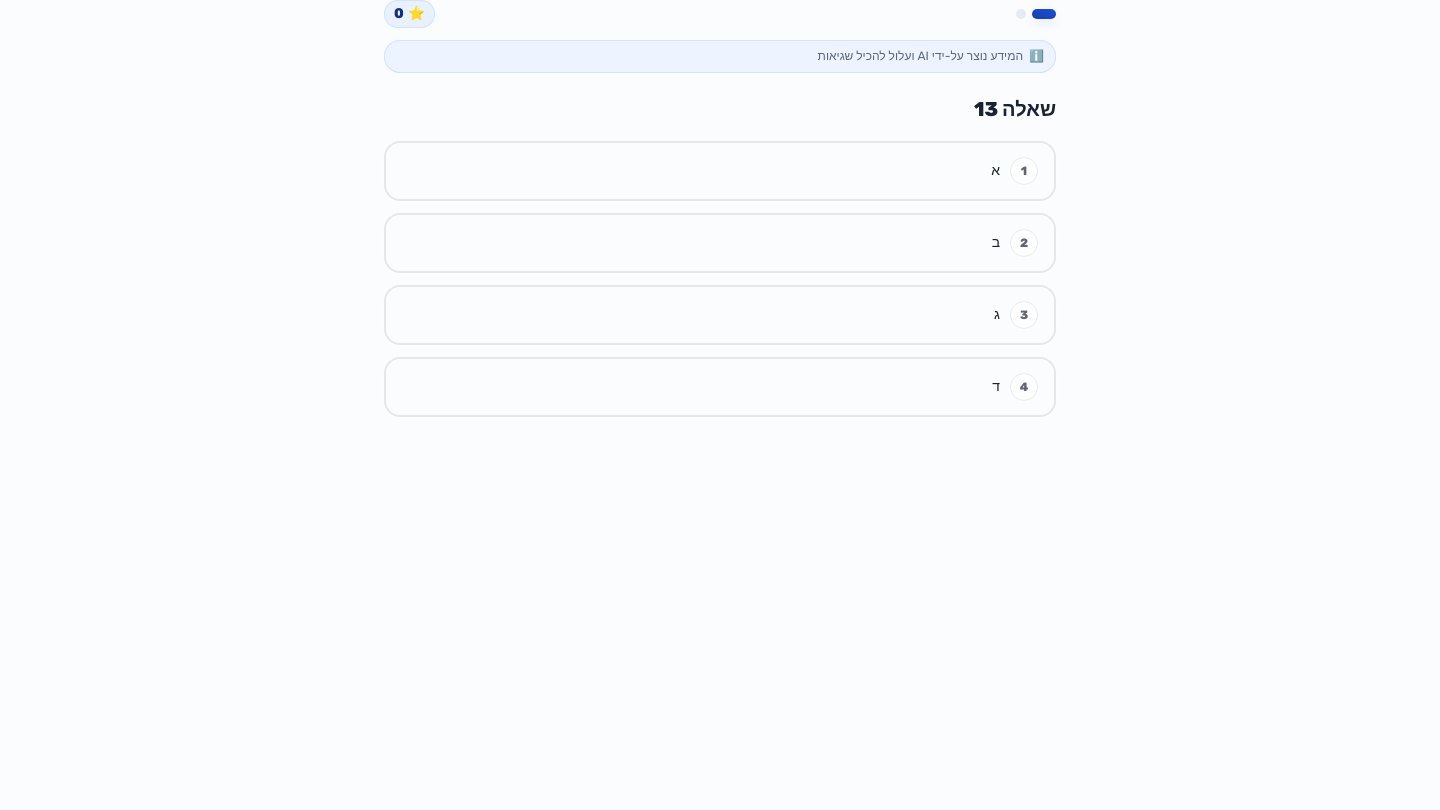
Test: LessonPlayer › סיום כל השאלות → מסך-סיכום עם ניקוד-כולל ו-correct/total
The image size is (1440, 810).
Click the radio button with test id "mcq-option-0" at (720, 171), box [384, 141, 1056, 201]
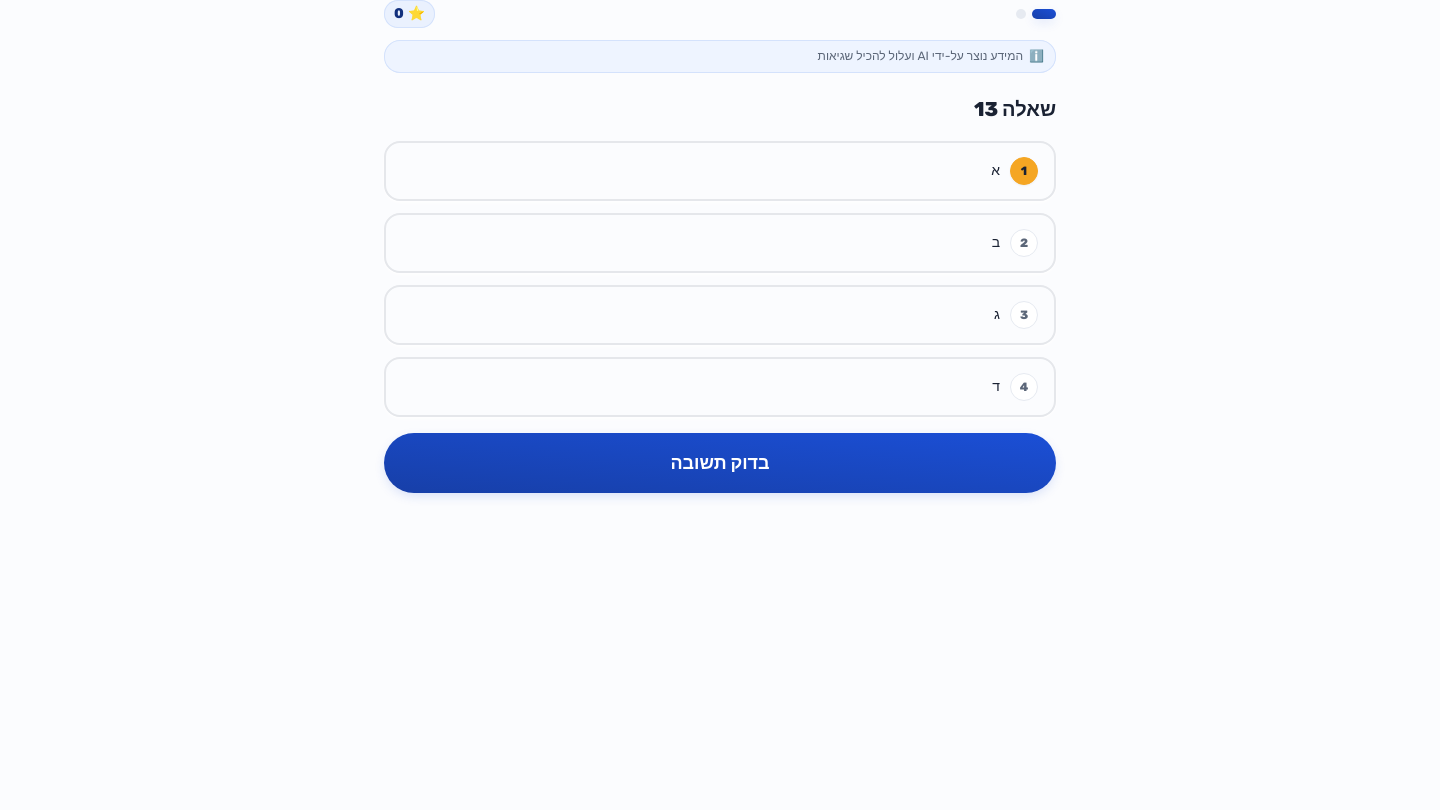
Click the button with test id "check-answer-button" at (720, 463), box [384, 433, 1056, 493]
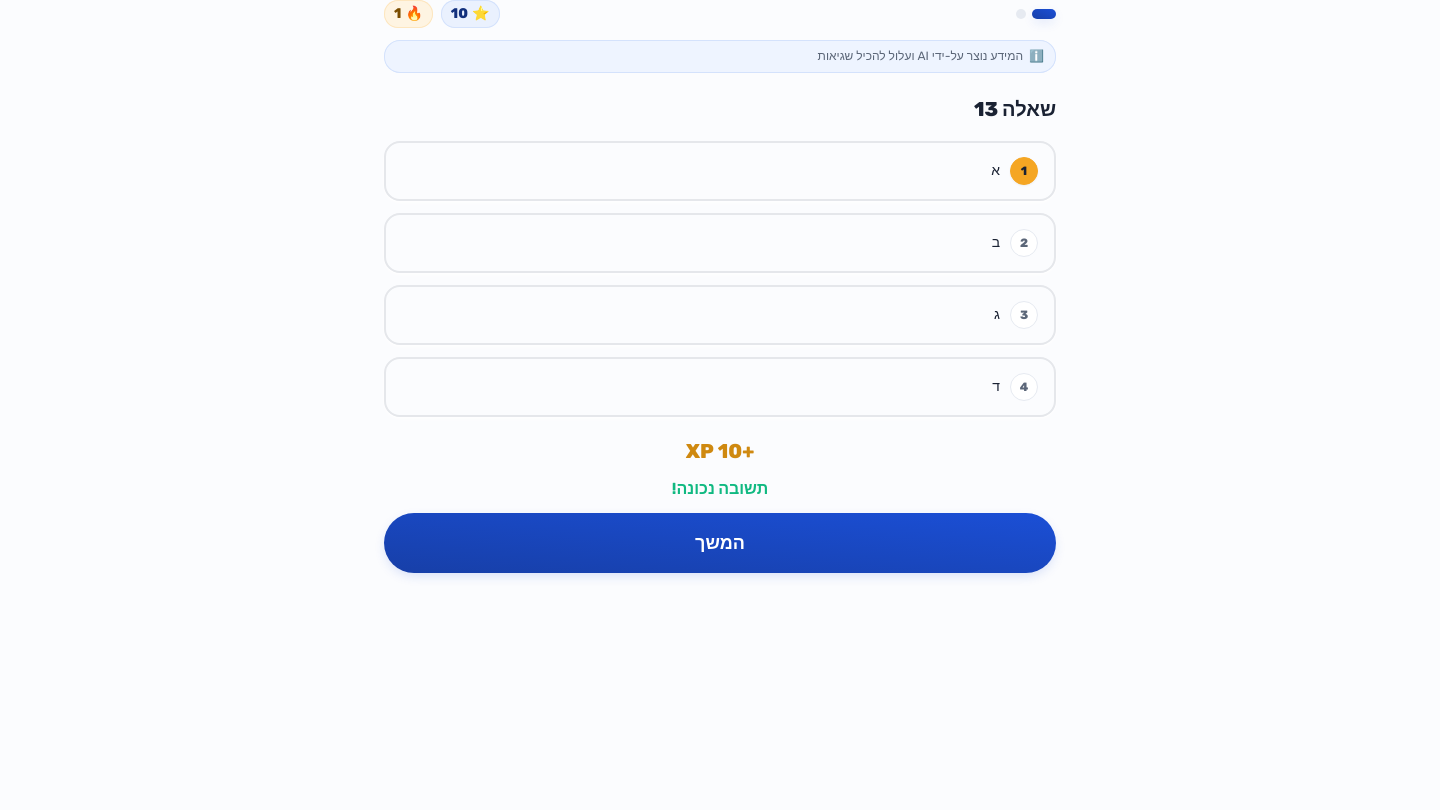
Click the button with test id "continue-button" at (720, 543), box [384, 513, 1056, 573]
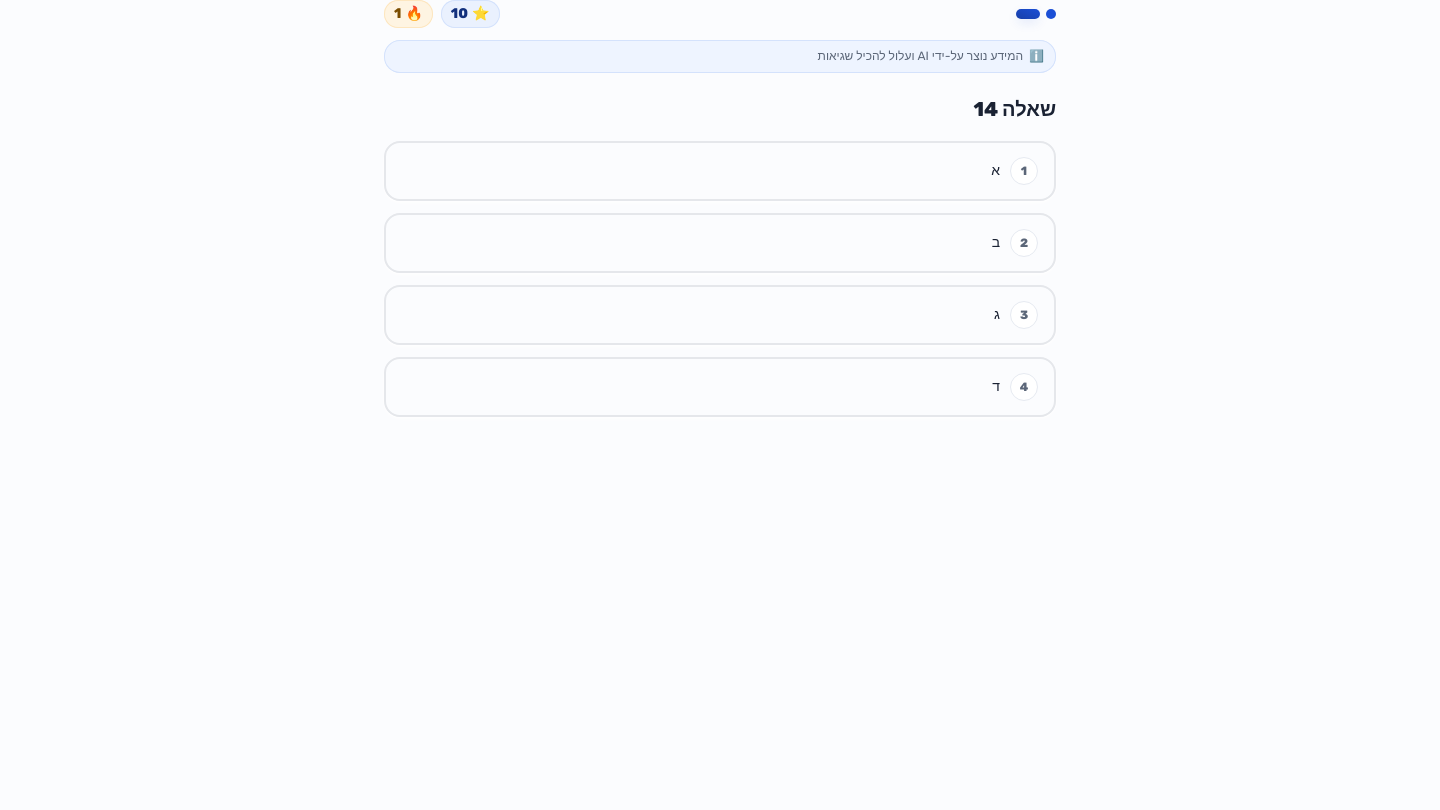
Click the radio button labelled "2 ב" at (720, 243), box [384, 213, 1056, 273]
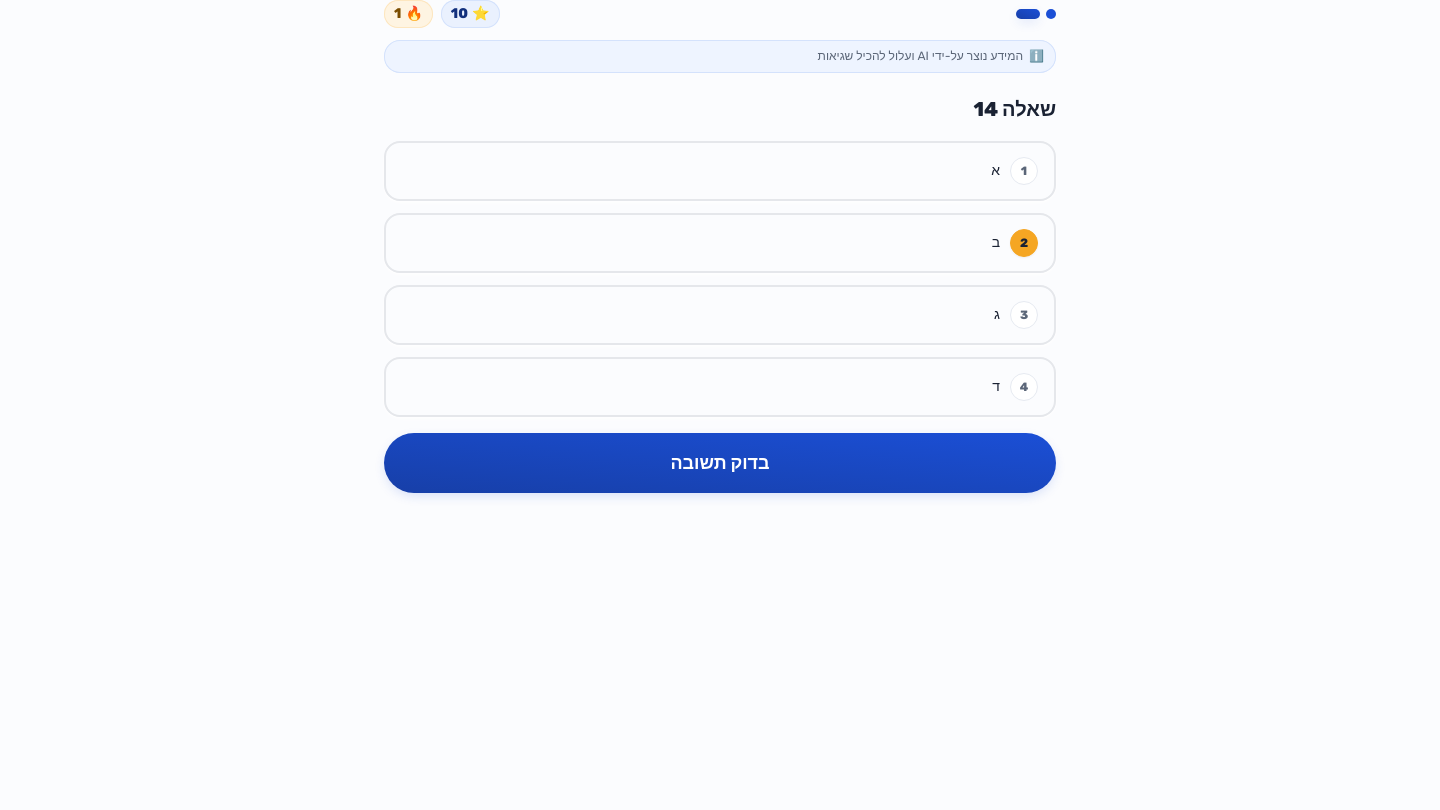
Click the button with test id "check-answer-button" at (720, 463), box [384, 433, 1056, 493]
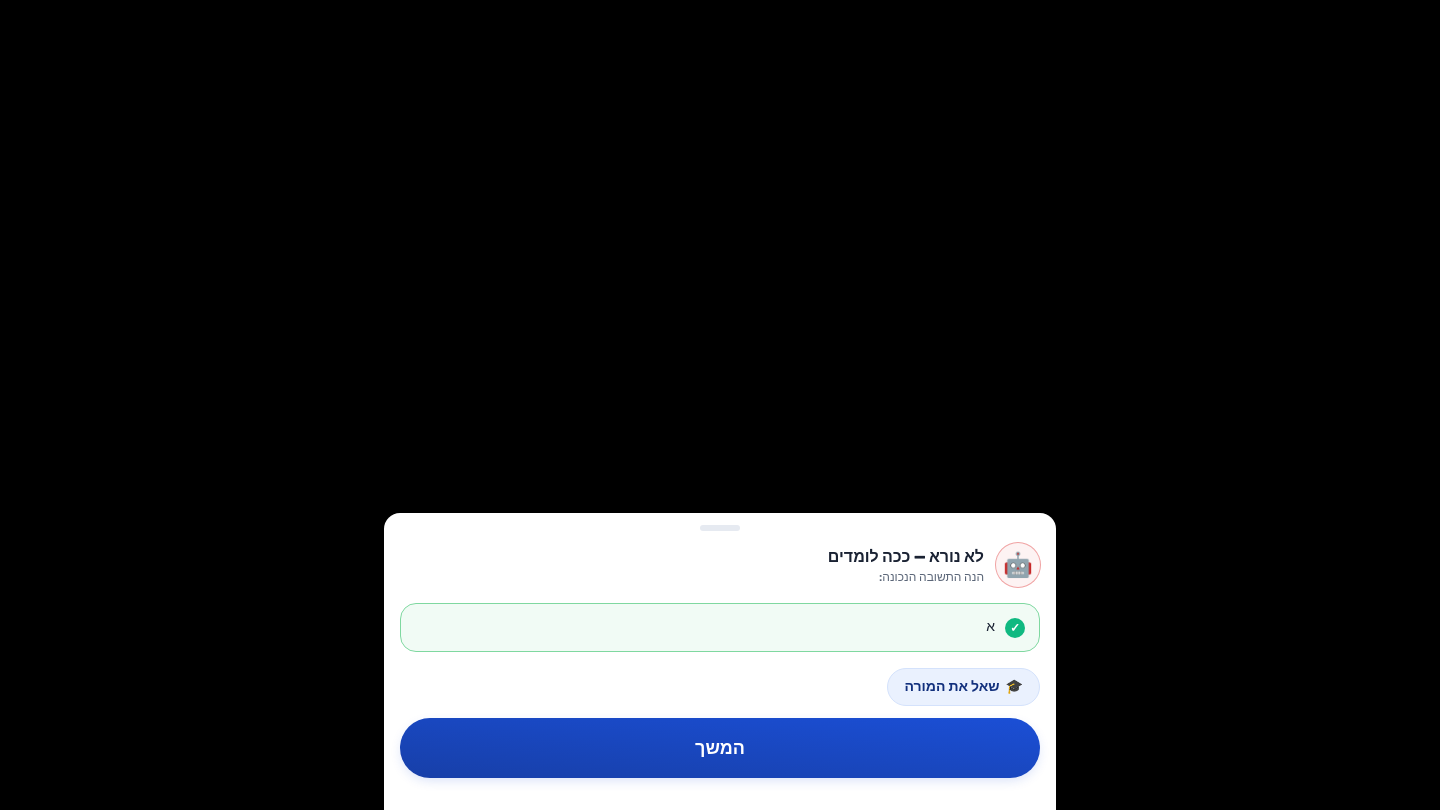
Click the button with test id "continue-button" at (720, 748), box [400, 718, 1040, 778]
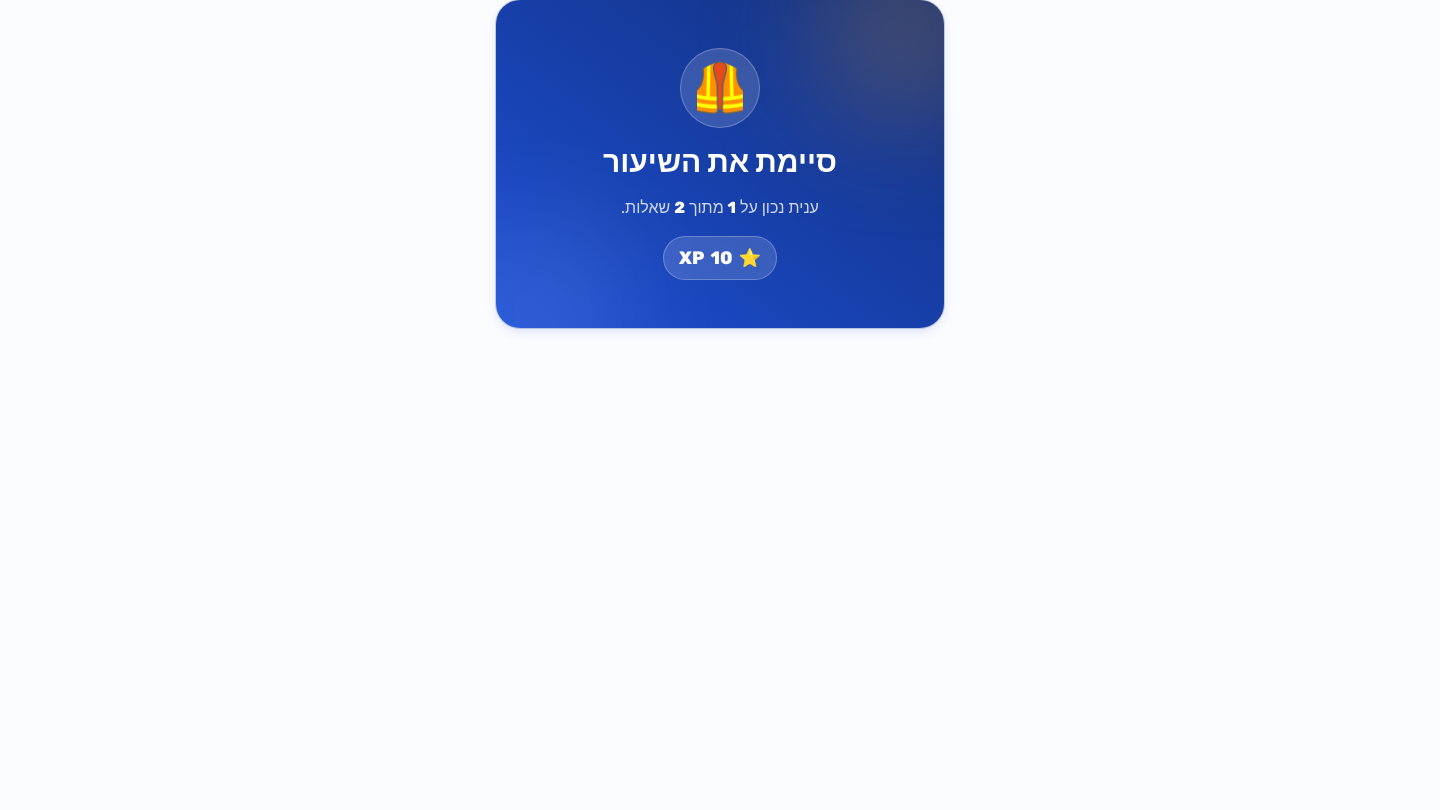
Expected: the text with test id "summary-correct" reads "1", [728, 198, 736, 217]
Expected: the text with test id "summary-xp" reads "10", [710, 247, 732, 269]
Expected: the message "🦺 סיימת את השיעור ענית נכון על 1 מתוך 2 שאלות. ⭐ 10 XP" is shown, [496, 0, 944, 328]
